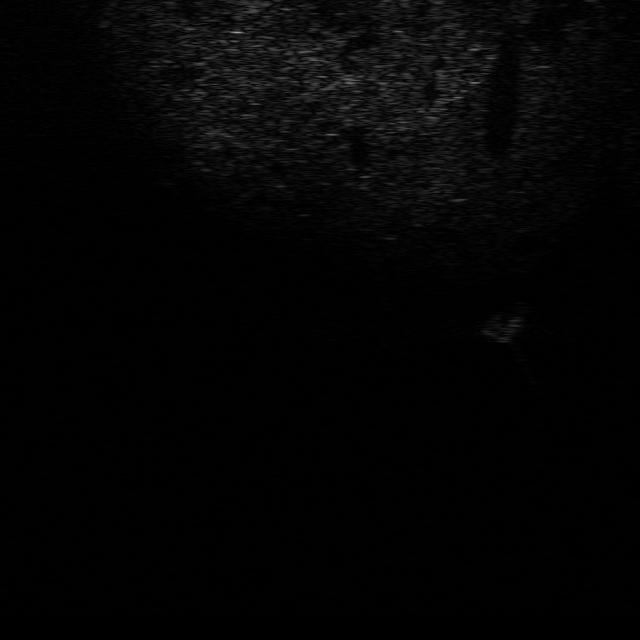cube: (486, 307, 526, 343)
